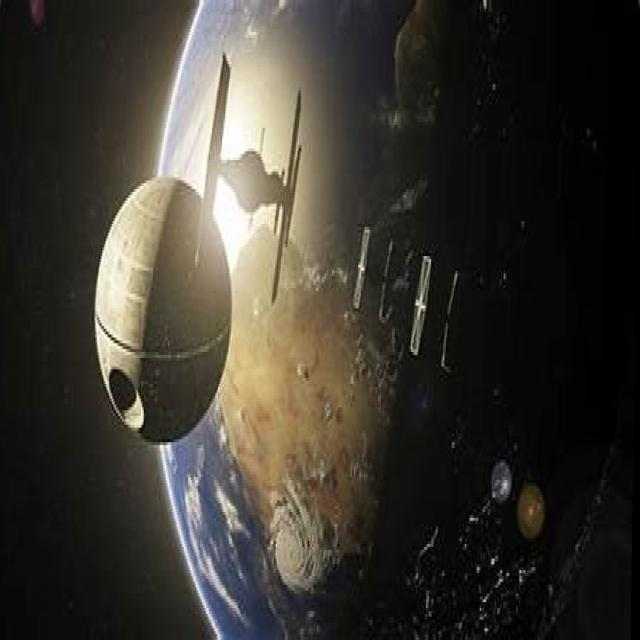deathStar: (92, 174, 232, 446)
